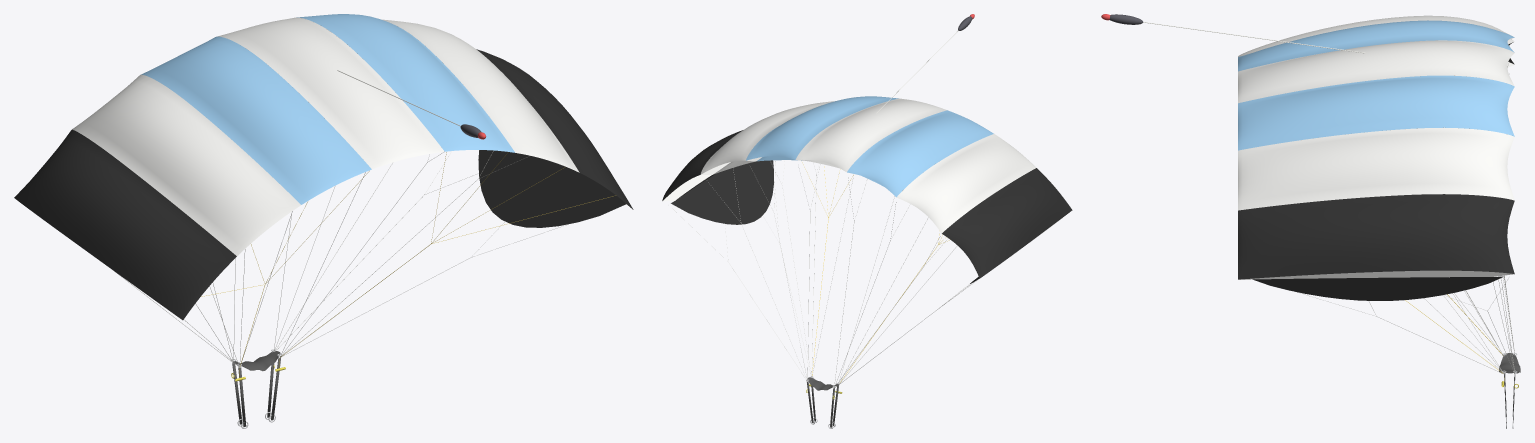
File: PD_Horizon_150.glb
3 renders of one model, left to right at view 1: azimuth 30°, elevation 25°; view 2: azimuth 150°, elevation 25°; view 3: azimuth 270°, elevation 25°, orthographic. The views are drawn at different scales.
Visible parts, largest first — view 1: TopSkin, Stabilizers, Lines, Risers, SteeringLines; view 2: TopSkin, Stabilizers, Lines, Ribs, BottomSkin, Risers; view 3: TopSkin, Stabilizers, Ribs, Lines, PilotChute.
Boxes of the visible parts, <box> form: TopSkin: <box>14,14,633,320</box>; Stabilizers: <box>478,150,626,227</box>; Lines: <box>114,151,567,367</box>; Risers: <box>231,350,285,428</box>; SteeringLines: <box>201,152,615,377</box>; TopSkin: <box>662,96,1072,278</box>; Stabilizers: <box>671,160,979,283</box>; Lines: <box>672,161,977,388</box>; Ribs: <box>663,157,902,201</box>; BottomSkin: <box>677,156,924,213</box>; Risers: <box>806,380,842,428</box>; TopSkin: <box>1238,15,1514,279</box>; Stabilizers: <box>1252,276,1503,300</box>; Ribs: <box>1241,35,1514,279</box>; Lines: <box>1297,46,1514,373</box>; PilotChute: <box>1101,14,1365,53</box>.
Bounding box in the file's own units: 4.74 × 4.14 × 3.85.
